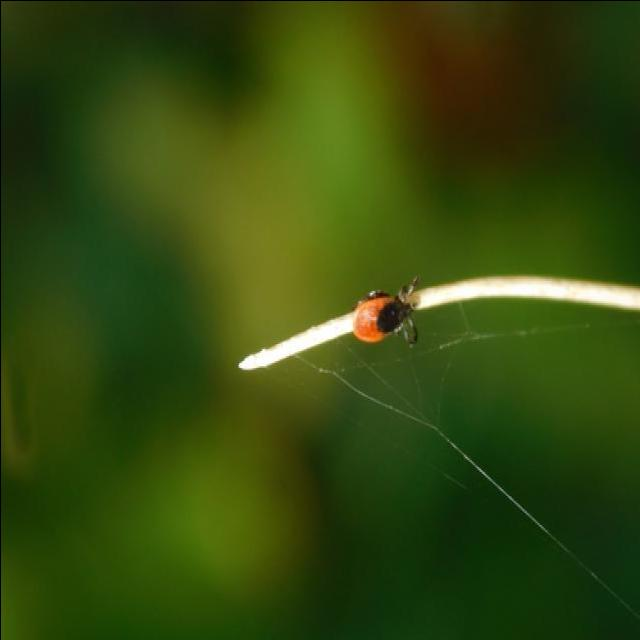Ixodes Ricinus-F: (352, 275, 419, 345)
